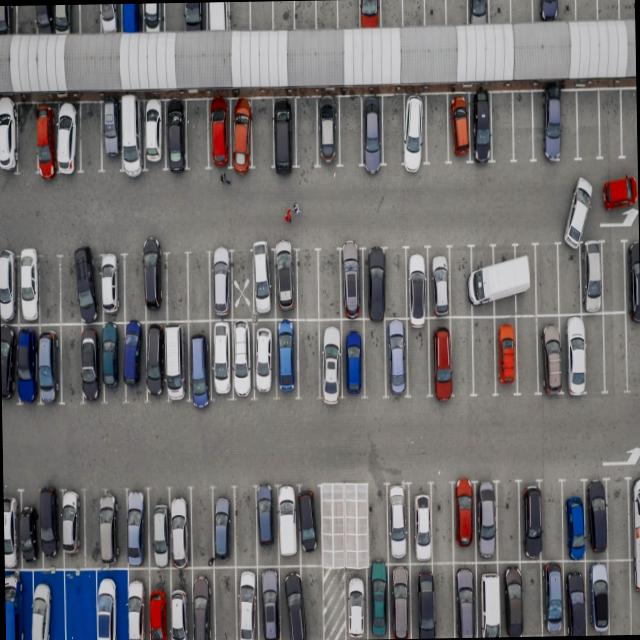car: (20, 567, 61, 640), (90, 565, 125, 640), (560, 313, 591, 395), (535, 89, 567, 164), (475, 560, 505, 636), (536, 316, 565, 394), (382, 482, 410, 562), (251, 320, 279, 400), (186, 321, 214, 401), (234, 566, 264, 640), (32, 323, 60, 402), (449, 480, 476, 560), (207, 320, 234, 400), (161, 321, 188, 401), (272, 318, 299, 396), (339, 318, 366, 396), (165, 488, 192, 566), (124, 488, 151, 566), (402, 249, 432, 319), (187, 565, 215, 640), (489, 243, 518, 315), (211, 486, 237, 566), (408, 482, 434, 562), (474, 480, 500, 560), (227, 320, 253, 400), (12, 324, 38, 404), (492, 316, 520, 390), (452, 562, 480, 636), (122, 321, 148, 400), (400, 95, 428, 168), (445, 92, 473, 164), (164, 568, 192, 640), (344, 568, 372, 640), (470, 243, 498, 315), (34, 488, 60, 565), (97, 490, 123, 567), (144, 566, 171, 640), (59, 490, 86, 564), (125, 566, 152, 640), (428, 320, 454, 396), (383, 319, 409, 395), (562, 558, 588, 634), (99, 254, 128, 322), (272, 247, 299, 320), (145, 489, 170, 567), (207, 248, 234, 320), (562, 486, 588, 560), (253, 244, 279, 318), (576, 240, 602, 314), (538, 562, 564, 636), (120, 99, 146, 173), (278, 564, 304, 638), (257, 566, 283, 640), (318, 316, 342, 396), (100, 320, 124, 400), (582, 558, 607, 634), (140, 99, 166, 172), (256, 486, 280, 565), (206, 98, 232, 170), (468, 94, 494, 166), (164, 100, 190, 172), (385, 562, 410, 636), (56, 102, 82, 173), (360, 250, 387, 318), (363, 566, 388, 639), (276, 486, 300, 562), (295, 491, 319, 567), (518, 485, 542, 561), (270, 98, 296, 168), (360, 96, 385, 168), (14, 253, 39, 325), (82, 323, 105, 401), (144, 322, 167, 400), (410, 562, 434, 636), (226, 99, 251, 170), (314, 98, 340, 166), (498, 564, 522, 636), (512, 243, 536, 315), (339, 250, 365, 316), (426, 250, 452, 316), (35, 102, 58, 176), (584, 484, 606, 560), (19, 490, 41, 566), (101, 101, 124, 172), (144, 252, 168, 320), (80, 252, 103, 322), (4, 569, 26, 640), (0, 250, 19, 323), (3, 496, 21, 572), (0, 101, 18, 173), (0, 323, 15, 402), (626, 239, 640, 313), (628, 475, 640, 557), (629, 554, 640, 631), (534, 0, 574, 21), (50, 4, 76, 34), (140, 3, 166, 32), (204, 2, 229, 31), (120, 3, 144, 33), (182, 2, 206, 31), (356, 0, 380, 28), (98, 4, 120, 32), (33, 5, 53, 34), (467, 0, 491, 23), (62, 4, 80, 34), (0, 5, 15, 35)
free: (62, 565, 99, 640), (210, 564, 240, 640), (470, 316, 498, 394), (292, 320, 320, 398), (602, 313, 630, 391), (233, 486, 260, 566), (360, 318, 388, 394), (404, 320, 432, 396), (448, 316, 474, 396), (427, 562, 455, 636), (296, 564, 324, 638), (512, 316, 538, 394), (59, 324, 85, 402), (421, 94, 449, 166), (429, 484, 454, 564), (556, 238, 582, 314), (608, 557, 634, 633), (602, 239, 629, 312), (364, 487, 388, 568), (540, 485, 565, 562), (533, 242, 559, 316), (599, 90, 625, 164), (488, 90, 514, 163), (379, 95, 405, 168), (582, 313, 606, 392), (496, 484, 520, 562), (188, 490, 212, 568), (251, 94, 276, 168), (36, 256, 62, 326), (380, 249, 406, 319), (185, 100, 211, 170), (79, 102, 105, 172), (165, 252, 191, 321), (296, 249, 322, 318), (228, 248, 252, 322), (294, 98, 320, 166), (520, 562, 544, 635), (16, 104, 40, 177), (338, 96, 363, 166), (511, 90, 535, 162), (606, 482, 628, 560), (576, 92, 600, 163), (448, 248, 473, 316), (123, 254, 148, 321), (186, 252, 210, 320), (316, 250, 340, 318), (60, 255, 84, 322), (321, 490, 341, 568), (82, 492, 102, 566), (620, 88, 637, 158), (625, 313, 640, 390), (313, 0, 337, 31), (250, 1, 274, 31), (293, 0, 317, 30), (79, 4, 102, 35), (336, 0, 360, 29), (15, 5, 38, 35), (271, 1, 294, 30), (162, 2, 184, 32), (378, 0, 402, 27), (228, 2, 251, 30), (402, 0, 425, 27), (424, 0, 447, 26), (445, 0, 469, 24), (509, 0, 532, 23), (487, 0, 509, 23), (575, 0, 598, 20), (595, 0, 618, 19), (618, 0, 634, 17)
